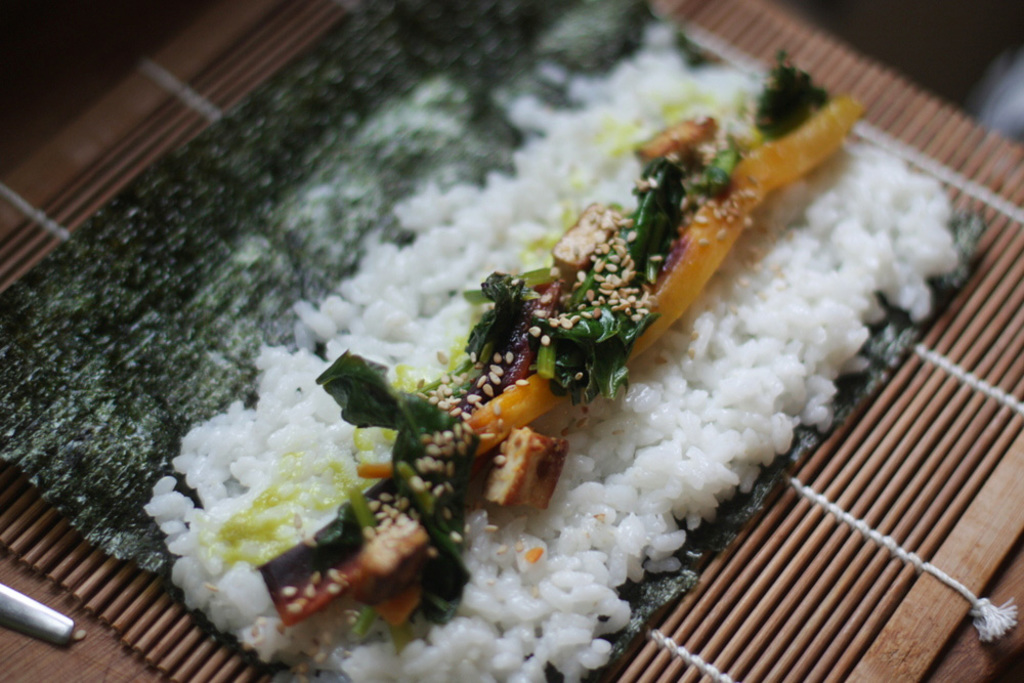sushi: (0, 0, 988, 677)
